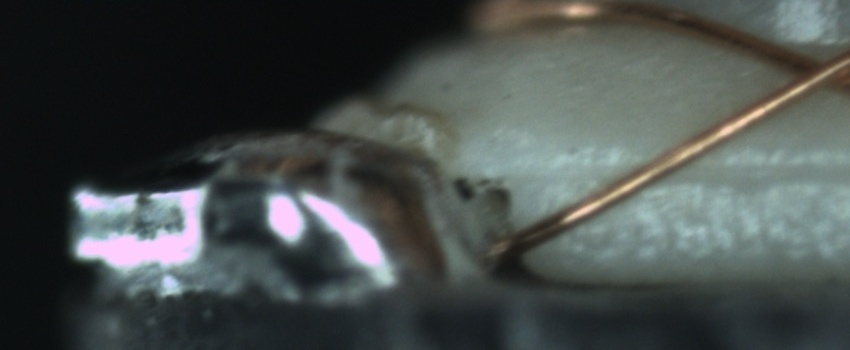CL: (766, 37, 848, 105)
DL: (547, 137, 848, 204)
